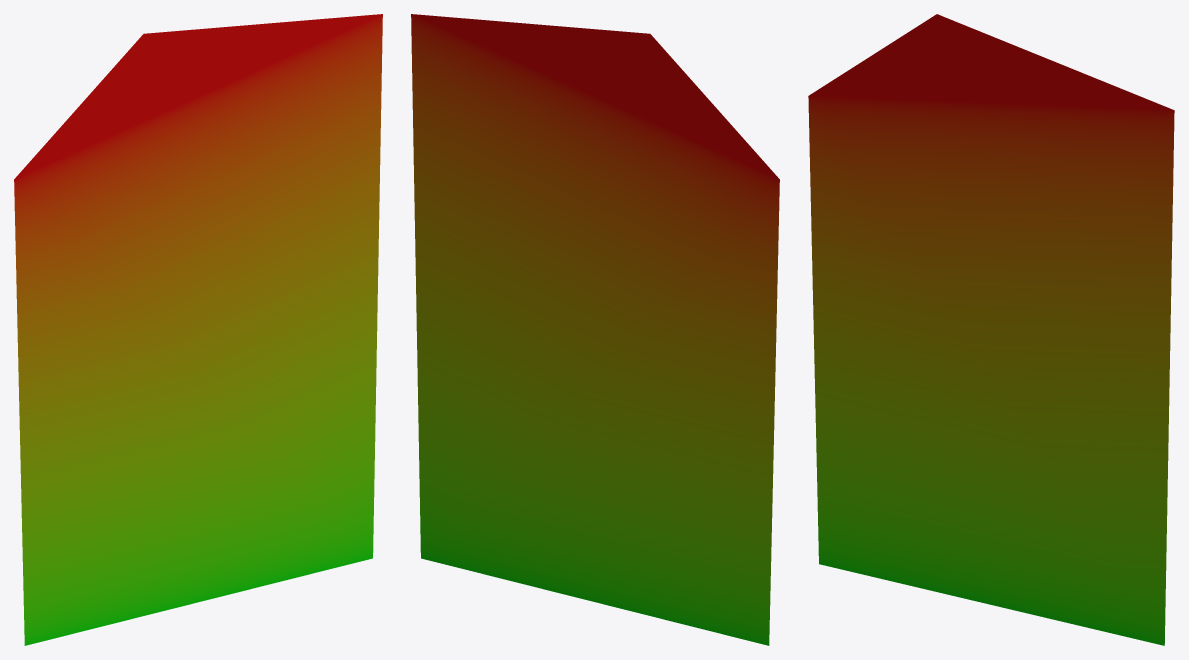
The model's file is Tundra Grass_LOD7_Var8_wk2oaeyqx.fbx.
3 renders of one model, left to right at view 1: azimuth 30°, elevation 25°; view 2: azimuth 150°, elevation 25°; view 3: azimuth 330°, elevation 25°, orthographic.
Parts seen in each view (by area): view 1: _lgyw_Var8_LOD7; view 2: _lgyw_Var8_LOD7; view 3: _lgyw_Var8_LOD7.
Boxes of the visible parts, left/top/right/bottom form: _lgyw_Var8_LOD7: left=14, top=14, right=382, bottom=645; _lgyw_Var8_LOD7: left=411, top=14, right=779, bottom=645; _lgyw_Var8_LOD7: left=808, top=14, right=1174, bottom=645.
Size of the model in its own units: 47.73 by 72.13 by 3.15e-06.
